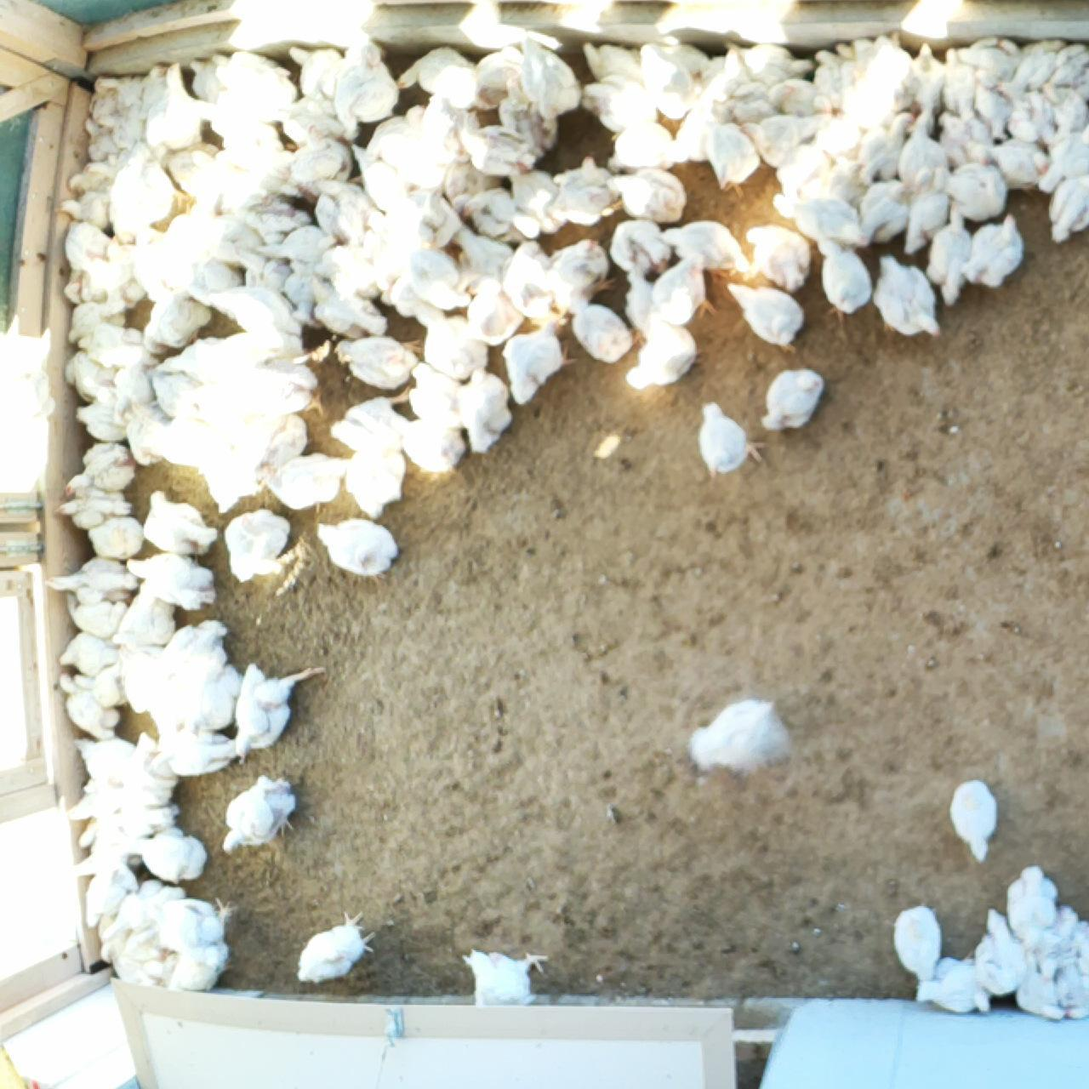chicken: (232, 659, 327, 766), (151, 618, 235, 736), (687, 698, 794, 775), (220, 773, 302, 860), (205, 286, 304, 356), (624, 305, 703, 392), (464, 944, 546, 1027), (104, 146, 175, 241), (443, 135, 516, 224), (412, 300, 492, 381), (512, 31, 581, 123), (338, 40, 398, 144), (252, 451, 357, 510), (874, 251, 943, 340), (295, 909, 376, 984), (144, 721, 241, 782), (330, 386, 417, 454), (500, 318, 567, 406), (140, 487, 220, 559), (395, 101, 460, 189), (727, 279, 805, 352), (397, 44, 480, 111), (340, 444, 413, 520), (196, 437, 269, 513), (660, 215, 749, 277), (775, 189, 870, 247), (496, 235, 560, 320), (126, 227, 199, 301), (455, 364, 516, 452), (924, 206, 976, 309), (314, 517, 403, 577), (693, 400, 764, 475), (406, 357, 475, 434), (212, 50, 295, 114), (225, 329, 315, 388), (125, 550, 218, 607), (144, 60, 201, 153), (708, 41, 816, 90), (976, 907, 1033, 999), (471, 44, 535, 124), (143, 942, 236, 997), (649, 251, 718, 325), (604, 164, 688, 224), (373, 261, 448, 328), (231, 505, 293, 586), (151, 898, 237, 956), (362, 95, 433, 165), (494, 78, 553, 162), (107, 583, 182, 649), (140, 414, 225, 472), (914, 955, 991, 1019), (206, 105, 289, 164), (548, 235, 608, 316), (1028, 898, 1085, 983), (335, 336, 423, 391), (458, 121, 540, 180), (392, 185, 459, 257), (961, 214, 1025, 289), (191, 656, 253, 733), (660, 103, 730, 171), (1003, 866, 1062, 946), (306, 276, 386, 335), (57, 671, 125, 740), (464, 276, 529, 348), (890, 901, 945, 986), (898, 113, 955, 195), (160, 189, 222, 264), (948, 776, 1000, 865), (858, 107, 918, 184), (399, 411, 469, 477), (220, 191, 304, 246), (748, 221, 813, 292), (572, 301, 643, 366), (60, 261, 145, 315), (812, 237, 873, 312), (583, 79, 666, 134), (309, 177, 378, 243), (361, 206, 427, 275), (143, 288, 213, 353), (59, 441, 137, 499), (117, 729, 174, 808), (62, 216, 129, 283), (609, 215, 677, 281), (618, 264, 673, 345), (112, 640, 167, 721), (280, 138, 358, 195), (157, 335, 244, 386), (842, 178, 908, 245), (102, 877, 169, 943), (407, 241, 471, 310), (240, 366, 320, 421), (450, 222, 517, 287), (462, 186, 537, 244), (555, 153, 619, 220), (254, 221, 341, 270), (191, 214, 268, 269), (760, 368, 825, 433), (509, 162, 566, 236), (903, 169, 952, 255), (44, 556, 141, 599), (706, 44, 766, 113), (704, 120, 756, 199), (866, 37, 923, 109), (160, 339, 252, 383), (274, 91, 346, 147), (81, 861, 141, 928), (185, 147, 255, 204), (931, 160, 1002, 216), (605, 121, 682, 172), (136, 828, 208, 882), (117, 395, 170, 467), (67, 733, 136, 788), (129, 59, 174, 143), (352, 149, 412, 211), (125, 880, 189, 938), (187, 358, 258, 410), (908, 42, 951, 127), (986, 135, 1050, 192), (1014, 960, 1070, 1025), (250, 414, 306, 479), (286, 44, 346, 104), (57, 588, 126, 640), (1040, 123, 1089, 196), (141, 365, 207, 418), (998, 85, 1057, 144), (637, 43, 694, 104), (229, 245, 291, 301), (74, 663, 144, 712), (1038, 952, 1089, 1018), (321, 245, 379, 303), (584, 38, 651, 88), (54, 631, 130, 675), (1044, 171, 1089, 245), (74, 324, 146, 370), (277, 265, 327, 330), (55, 487, 136, 527), (69, 785, 154, 823), (72, 396, 137, 445), (77, 804, 140, 853), (97, 937, 164, 983), (831, 40, 878, 103), (63, 301, 131, 344), (771, 143, 830, 192), (180, 59, 229, 118), (110, 357, 154, 422), (965, 33, 1021, 84), (1012, 38, 1069, 88), (939, 111, 989, 167), (66, 162, 129, 206), (56, 195, 120, 238), (653, 34, 709, 83), (809, 160, 871, 204), (86, 517, 147, 559), (71, 839, 135, 879), (81, 114, 130, 166), (191, 406, 254, 446), (66, 347, 115, 398), (751, 112, 804, 157), (814, 49, 855, 107), (816, 112, 865, 160), (116, 800, 177, 838), (944, 47, 979, 113), (88, 78, 128, 135), (969, 83, 1012, 135), (1041, 83, 1089, 128), (99, 109, 153, 149), (727, 72, 783, 110), (778, 78, 829, 117), (1043, 47, 1089, 90), (99, 76, 150, 114), (727, 97, 777, 132), (1065, 916, 1089, 970), (1061, 68, 1089, 105), (85, 660, 96, 662)
